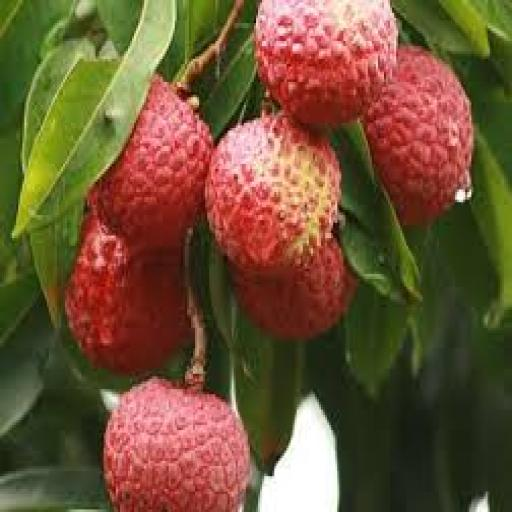lychee: (206, 113, 341, 273), (94, 77, 213, 248), (66, 216, 190, 373), (364, 47, 473, 225), (104, 379, 249, 511), (256, 0, 398, 125), (232, 241, 357, 340)
